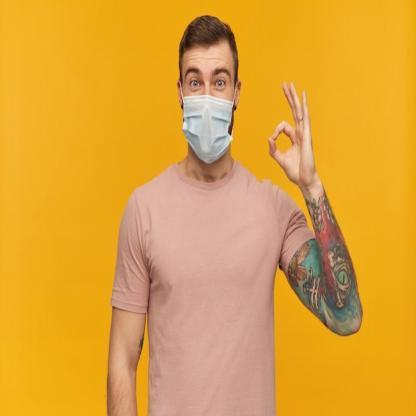ok: (265, 76, 318, 187)
